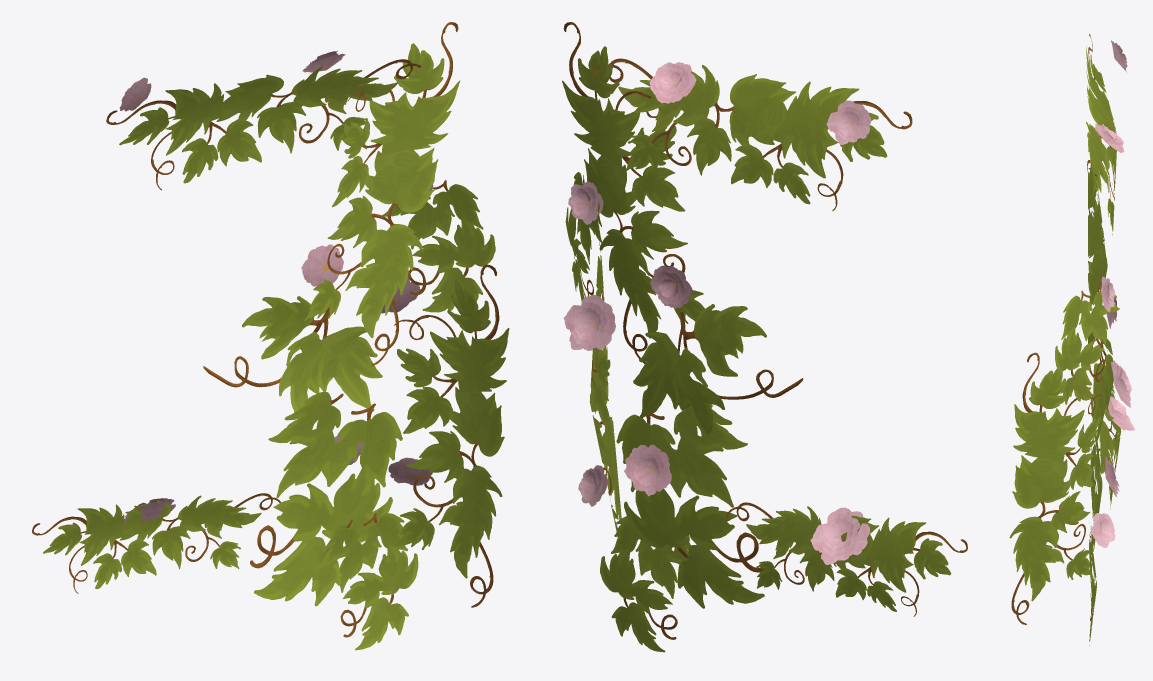
The model's file is sm_fleurs_04.fbx.
3 renders of one model, left to right at view 1: azimuth 30°, elevation 25°; view 2: azimuth 150°, elevation 25°; view 3: azimuth 270°, elevation 25°, orthographic. The views are drawn at different scales.
Parts seen in each view (by area): view 1: sm_fleurs_04; view 2: sm_fleurs_04; view 3: sm_fleurs_04.
Part boxes in pixels (bbox=[...]): sm_fleurs_04: bbox=[32, 22, 509, 650]; sm_fleurs_04: bbox=[562, 22, 967, 652]; sm_fleurs_04: bbox=[1009, 34, 1134, 645].
Size of the model in its own units: 272 by 370 by 84.22.
